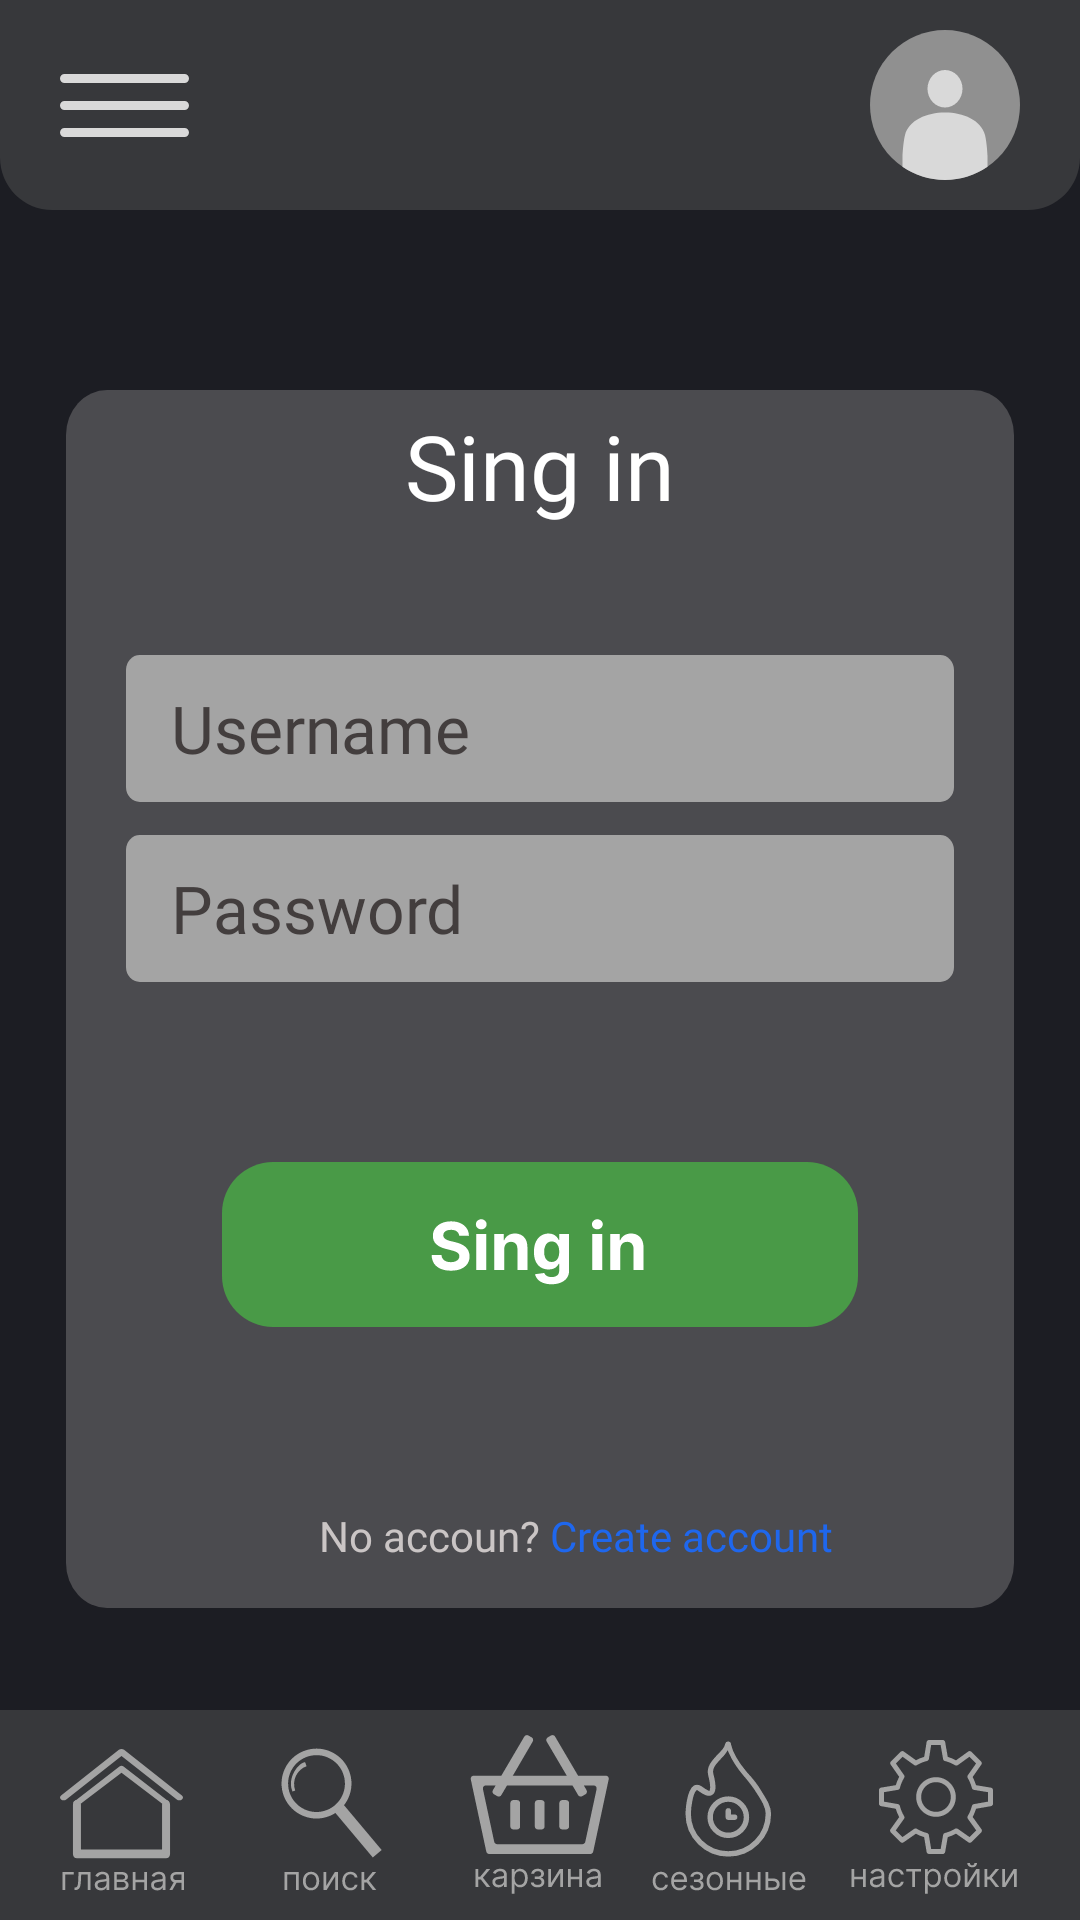

Named icons in this screenshot (1080*1920) and their centers, [x,y]:
avatarka: [945,105]
menu: [124,105]
